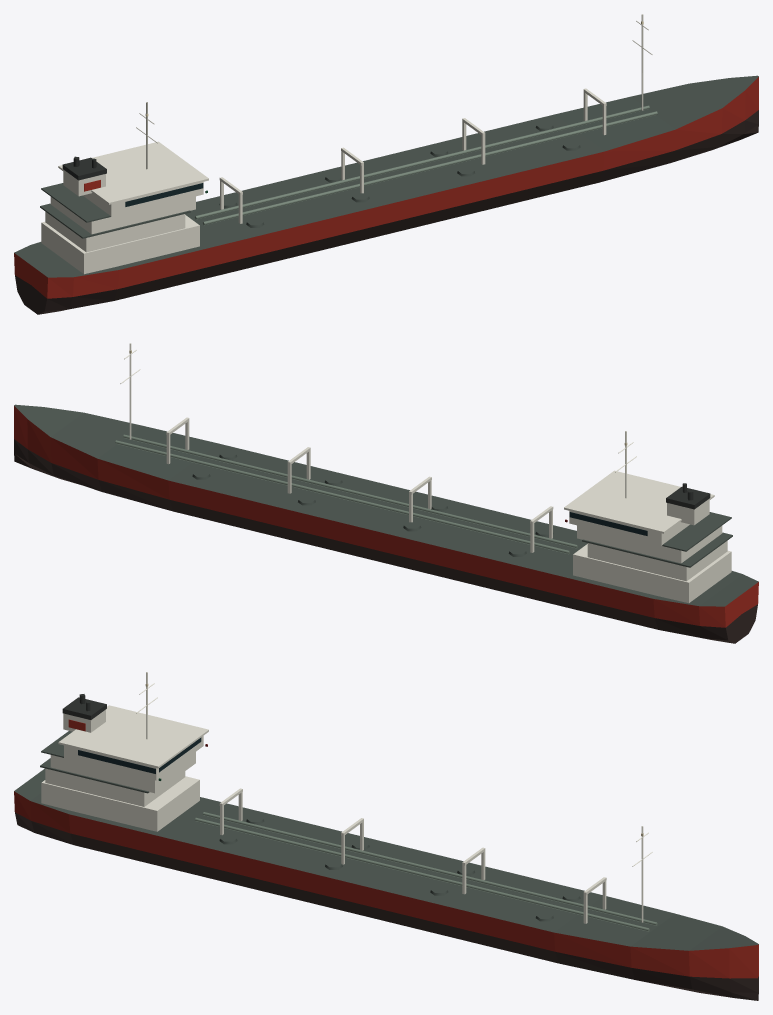
The model's file is river-sea-tanker-horizon.glb.
3 renders of one model, top to bottom at view 1: azimuth 30°, elevation 25°; view 2: azimuth 150°, elevation 25°; view 3: azimuth 330°, elevation 25°, orthographic.
Parts seen in each view (by area): view 1: tanker_deck, tanker_red, tanker_white, tanker_underwater, tanker_pipe, tanker_graphite; view 2: tanker_deck, tanker_white, tanker_red, tanker_underwater, tanker_pipe, tanker_graphite; view 3: tanker_deck, tanker_white, tanker_red, tanker_underwater, tanker_pipe, tanker_graphite, tanker_glass.
Part boxes in pixels (bbox=[...]): tanker_deck: bbox=[14, 75, 758, 277]; tanker_red: bbox=[14, 77, 758, 298]; tanker_white: bbox=[41, 14, 652, 274]; tanker_underwater: bbox=[15, 110, 758, 314]; tanker_pipe: bbox=[195, 105, 657, 225]; tanker_graphite: bbox=[62, 156, 106, 180]; tanker_deck: bbox=[14, 404, 758, 606]; tanker_white: bbox=[120, 343, 731, 603]; tanker_red: bbox=[14, 406, 758, 627]; tanker_underwater: bbox=[14, 439, 757, 643]; tanker_pipe: bbox=[115, 434, 577, 554]; tanker_graphite: bbox=[666, 483, 710, 509]; tanker_deck: bbox=[14, 731, 758, 950]; tanker_white: bbox=[41, 672, 652, 923]; tanker_red: bbox=[14, 719, 758, 978]; tanker_underwater: bbox=[15, 812, 758, 1000]; tanker_pipe: bbox=[195, 812, 657, 931]; tanker_graphite: bbox=[62, 694, 106, 719]; tanker_glass: bbox=[78, 737, 201, 773].
Size of the model in its own units: 138 by 32.5 by 16.6.
